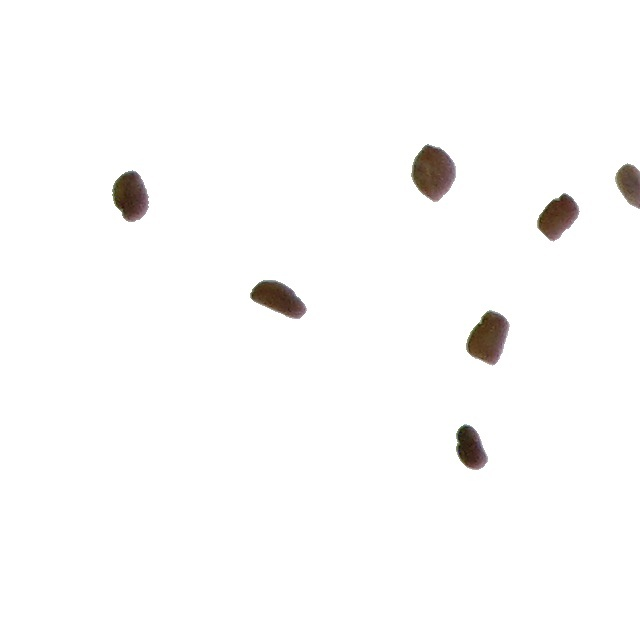buckwheat: (410, 143, 457, 203), (465, 309, 511, 367), (249, 279, 308, 320), (536, 192, 581, 243), (111, 169, 150, 223), (455, 423, 489, 471), (623, 162, 640, 201)
